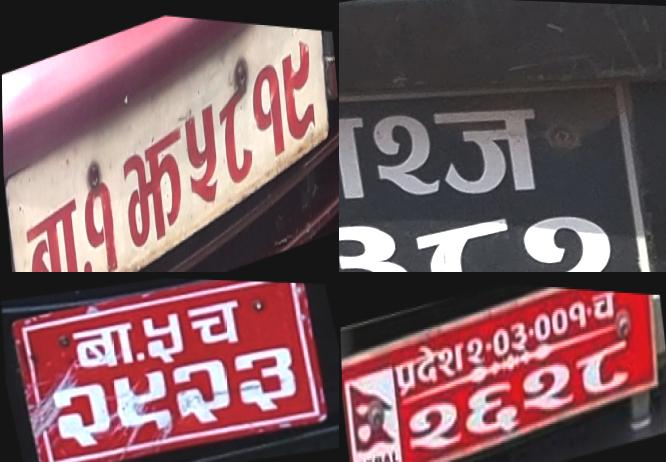0: (531, 306, 552, 343), (490, 320, 510, 356), (550, 299, 568, 335)
1: (247, 39, 287, 169), (80, 169, 121, 272), (567, 290, 588, 331)
2: (361, 99, 448, 206), (507, 196, 628, 272), (47, 378, 122, 454), (169, 352, 237, 429), (404, 390, 462, 461), (518, 348, 575, 417), (464, 331, 484, 365)
3: (226, 340, 307, 422), (339, 201, 421, 272), (510, 314, 528, 351)
5: (181, 87, 223, 212), (135, 308, 194, 365)
6: (461, 369, 518, 443)
8: (400, 198, 529, 272), (216, 72, 258, 190), (575, 331, 630, 397)
9: (108, 364, 182, 438), (278, 25, 322, 143)
ba: (22, 187, 88, 272), (339, 94, 382, 223), (66, 316, 140, 374)
cha: (182, 293, 249, 354), (590, 286, 616, 322)
ja: (426, 83, 560, 211)
jha: (120, 115, 192, 258)
